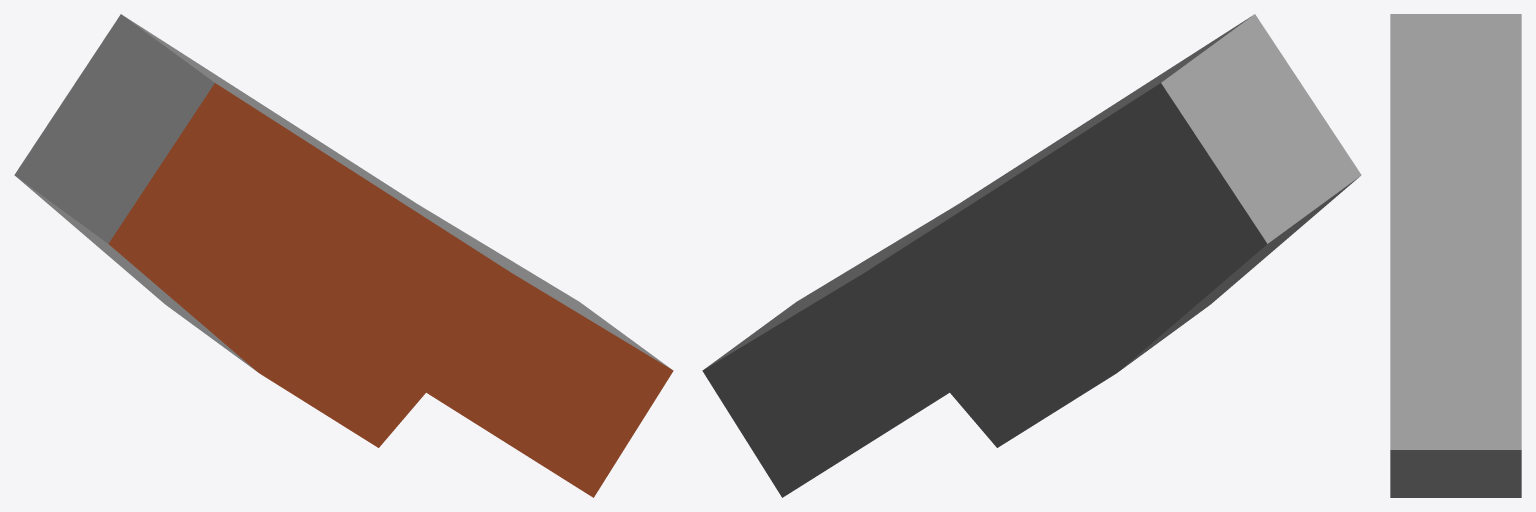
File: construction_6727_assumed_A_Casa_h6m.obj
3 renders of one model, left to right at view 1: azimuth 30°, elevation 25°; view 2: azimuth 150°, elevation 25°; view 3: azimuth 270°, elevation 25°, orthographic. The views are drawn at different scales.
Parts seen in each view (by area): view 1: construction_6727_assumed_A_Casa; view 2: construction_6727_assumed_A_Casa; view 3: construction_6727_assumed_A_Casa.
Boxes of the visible parts, <box> form: construction_6727_assumed_A_Casa: <box>14,14,673,497</box>; construction_6727_assumed_A_Casa: <box>702,14,1361,497</box>; construction_6727_assumed_A_Casa: <box>1390,14,1521,497</box>.
Size of the model in its own units: 20.81 by 17.86 by 6.
